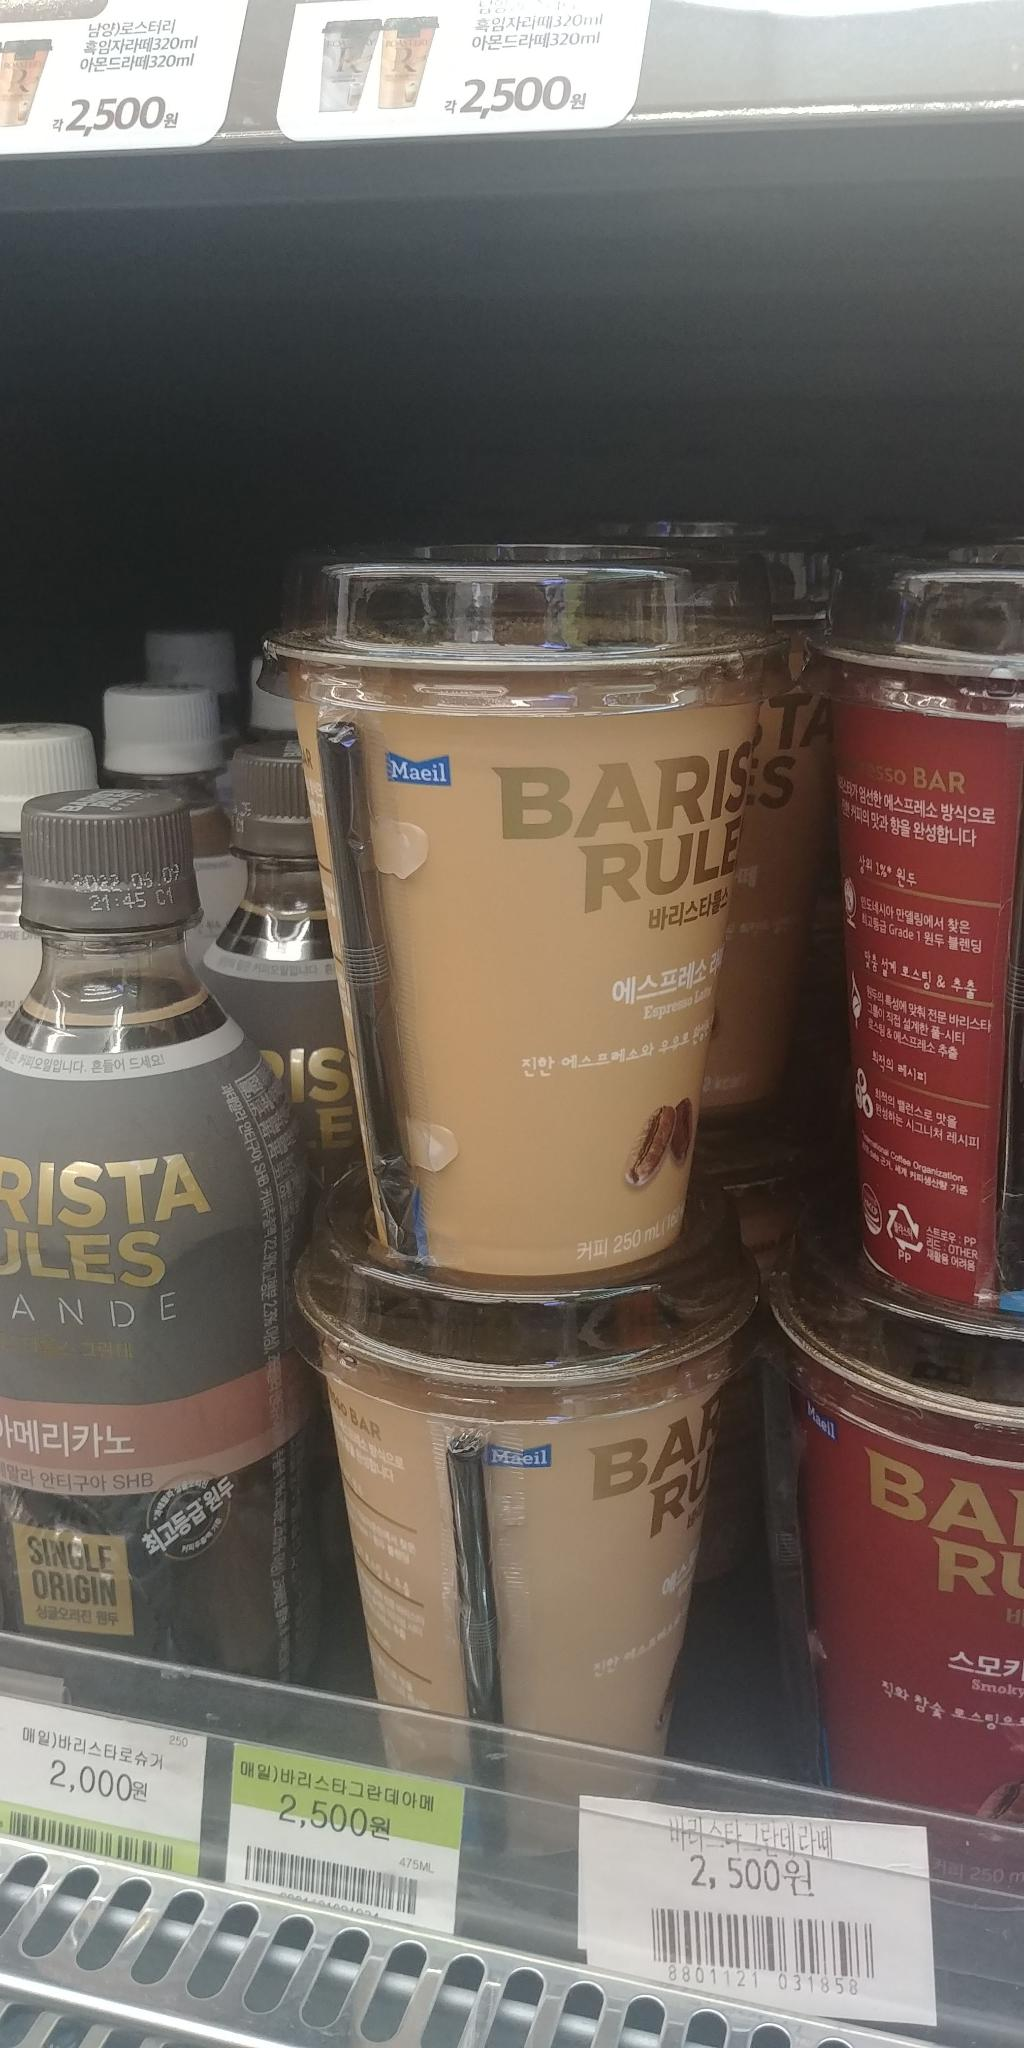baristarules_espressolatte: (252, 529, 780, 1271), (294, 1169, 750, 1863)
